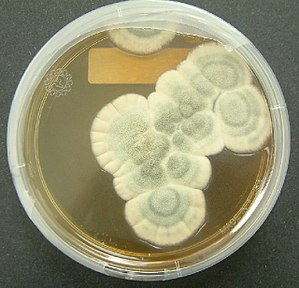Penicillium: (94, 110, 210, 181), (128, 187, 201, 231), (190, 48, 241, 102), (106, 30, 171, 55)
